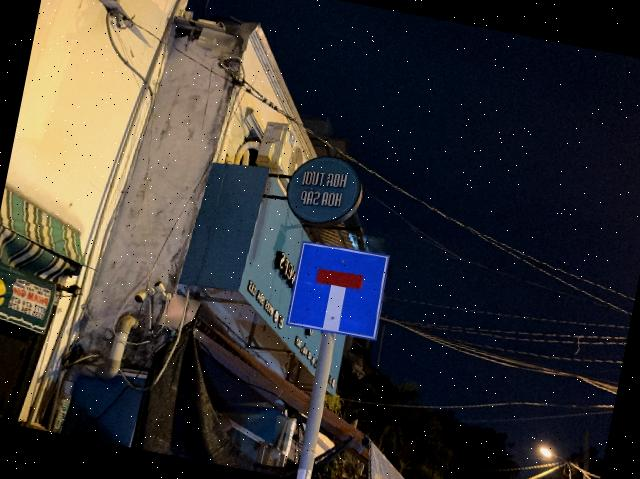duong-cut: (286, 238, 392, 342)
